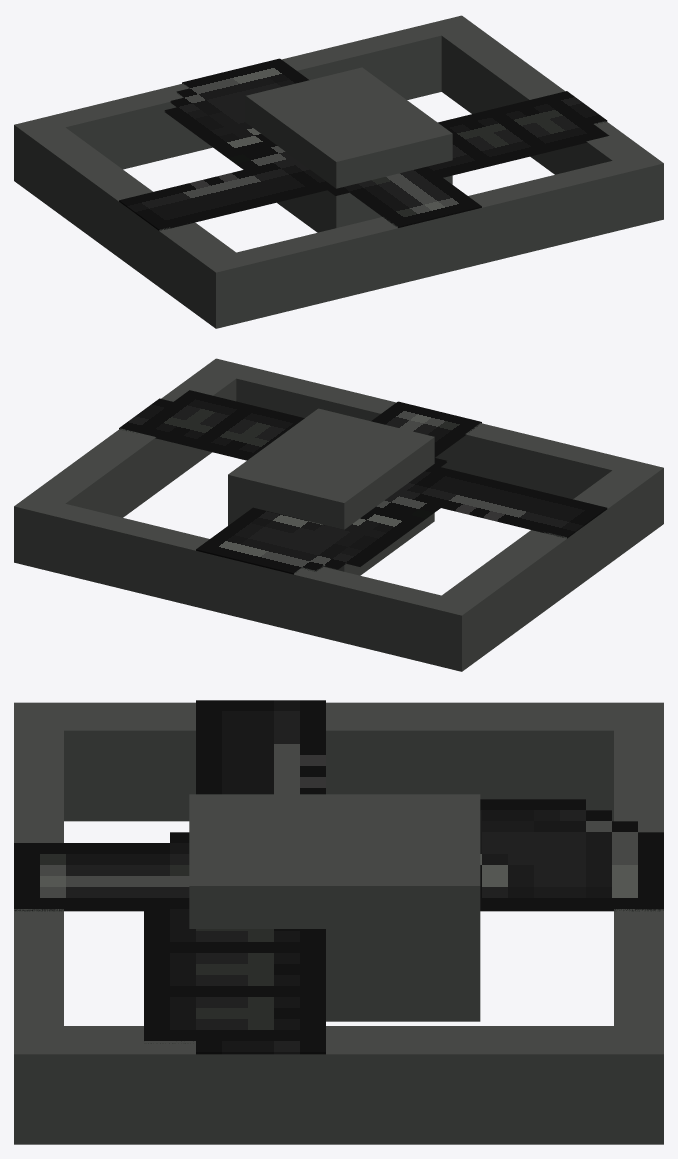
Rendered from CMU3DReduxRMCBeltHolsterRevolverSpearheadFill.glb.
3 views of the same model, one above another, from view 1: azimuth 30°, elevation 25°; view 2: azimuth 150°, elevation 25°; view 3: azimuth 270°, elevation 25° (orthographic). The views are drawn at different scales.
Parts seen in each view (by area): view 1: belt strap (×2), belt side (×2), source upper face, holster pouch; view 2: belt strap (×2), belt side (×2), source upper face, holster pouch; view 3: belt side (×2), source upper face, holster pouch, belt strap (×2).
Boxes of the visible parts, box(x1,y1,x2,y2) form: belt strap (×2): box(14, 17, 663, 327); belt side (×2): box(14, 15, 663, 328); source upper face: box(119, 58, 609, 230); holster pouch: box(245, 67, 452, 232); belt strap (×2): box(14, 358, 663, 671); belt side (×2): box(14, 359, 663, 671); source upper face: box(119, 390, 607, 574); holster pouch: box(228, 408, 434, 575); belt side (×2): box(14, 702, 663, 1144); source upper face: box(14, 700, 663, 1054); holster pouch: box(189, 794, 480, 1021); belt strap (×2): box(14, 702, 663, 1144).
Bounding box in the file's own units: 1 × 0.18 × 0.7812.
2 materials, 1 textured.
